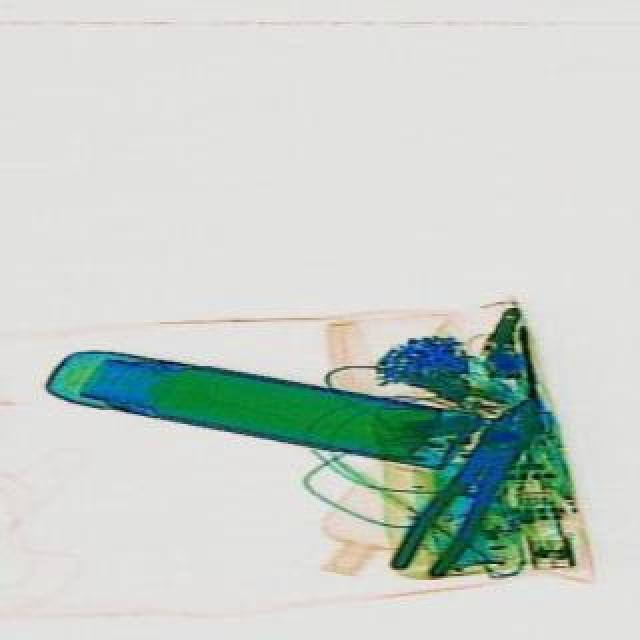wrench: (380, 380, 552, 592)
